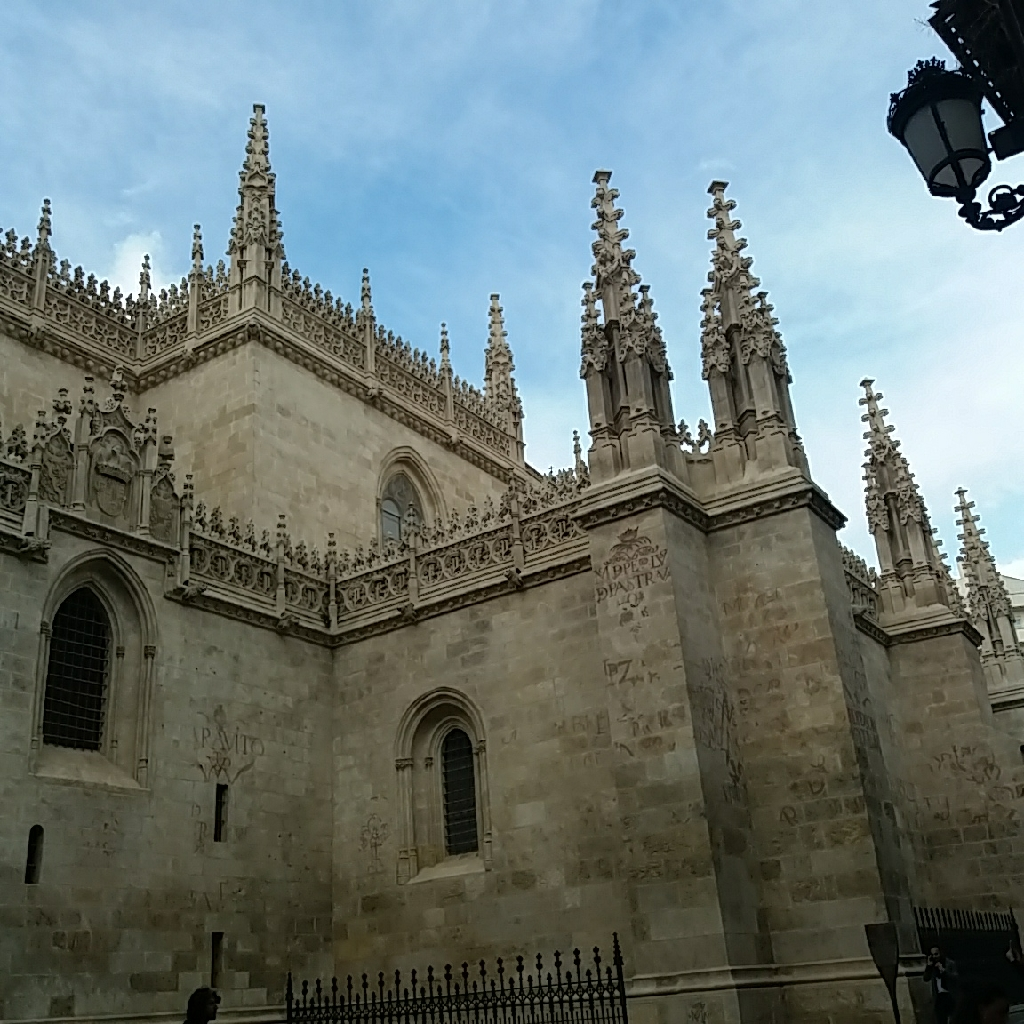arco-apuntado: (32, 551, 163, 661), (393, 687, 489, 755), (376, 443, 441, 528)
pinaculo-gotico: (690, 179, 786, 355), (579, 167, 670, 337), (847, 369, 935, 521), (221, 98, 281, 249), (943, 477, 1009, 590), (476, 282, 522, 422)
